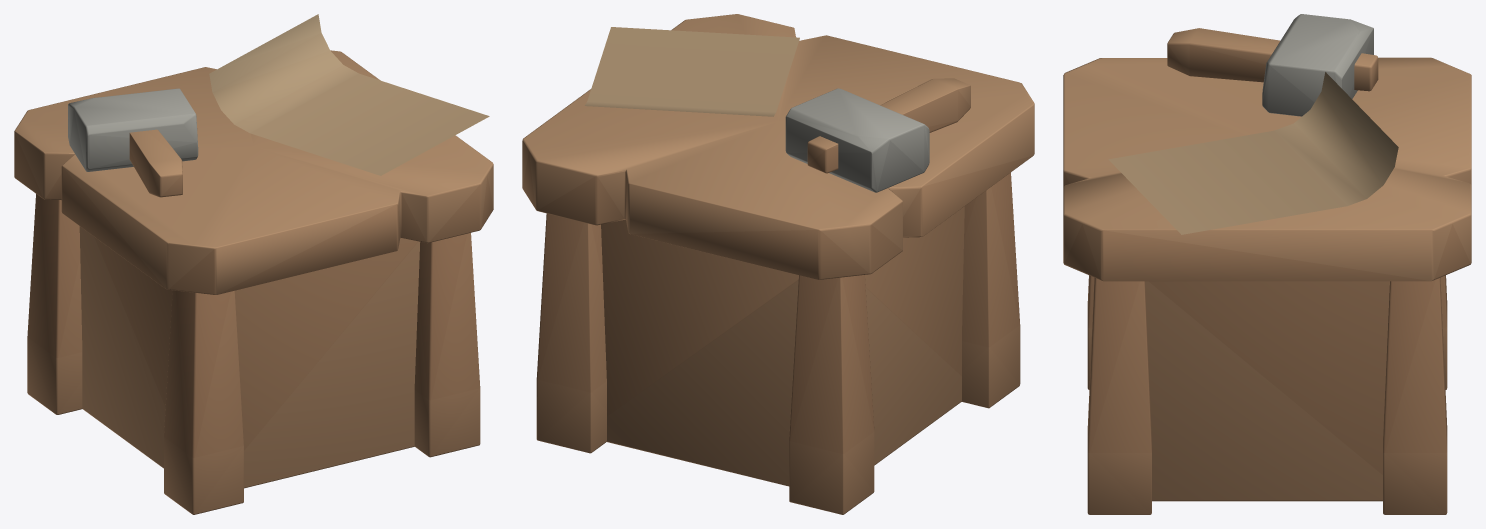
File: prop_workbench_01.glb
3 views of the same model, side by side, from view 1: azimuth 30°, elevation 25°; view 2: azimuth 150°, elevation 25°; view 3: azimuth 270°, elevation 25° (orthographic). The views are drawn at different scales.
Visible parts, largest first — view 1: prop_workbench_01; view 2: prop_workbench_01; view 3: prop_workbench_01.
Part boxes in pixels (x1=…): prop_workbench_01: x1=14, y1=14, x2=493, y2=514; prop_workbench_01: x1=522, y1=14, x2=1034, y2=514; prop_workbench_01: x1=1063, y1=14, x2=1471, y2=514.
Bounding box in the file's own units: 0.3257 × 0.2866 × 0.2957.
